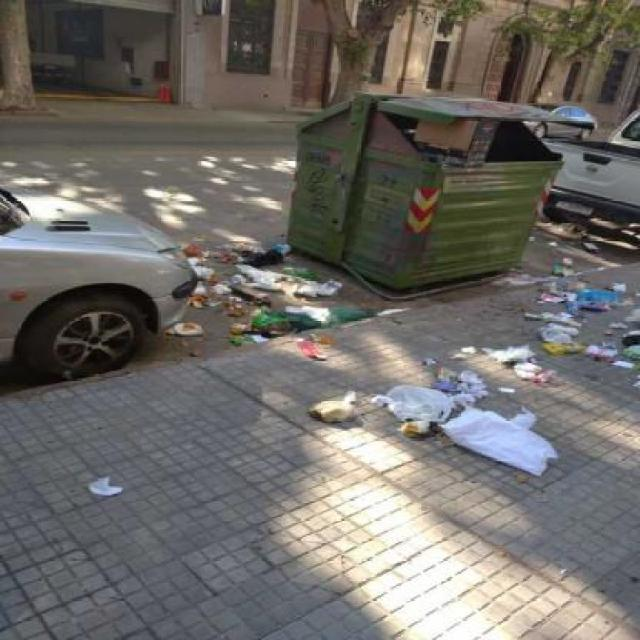garbage: (292, 365, 574, 482), (172, 234, 390, 360), (491, 257, 640, 370), (71, 476, 145, 510)
